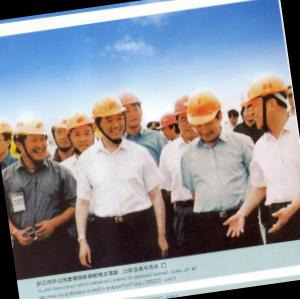helmet: (240, 67, 295, 139), (186, 83, 232, 142), (12, 114, 56, 170), (91, 91, 131, 143), (64, 107, 100, 156), (117, 86, 151, 136), (50, 113, 76, 156), (175, 99, 196, 138), (1, 115, 17, 165), (158, 113, 182, 145)
